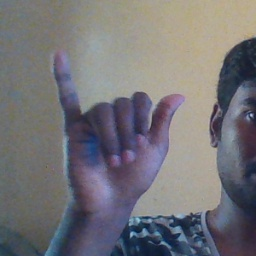J: (46, 48, 190, 196)
